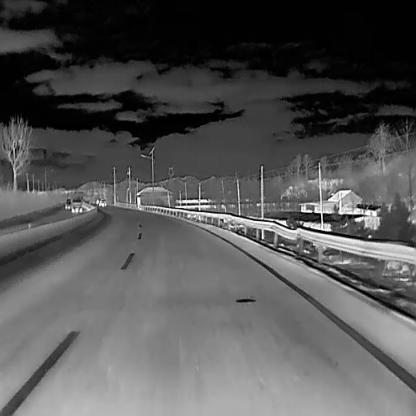car: (70, 195, 83, 211), (64, 198, 71, 210), (99, 196, 106, 206)
